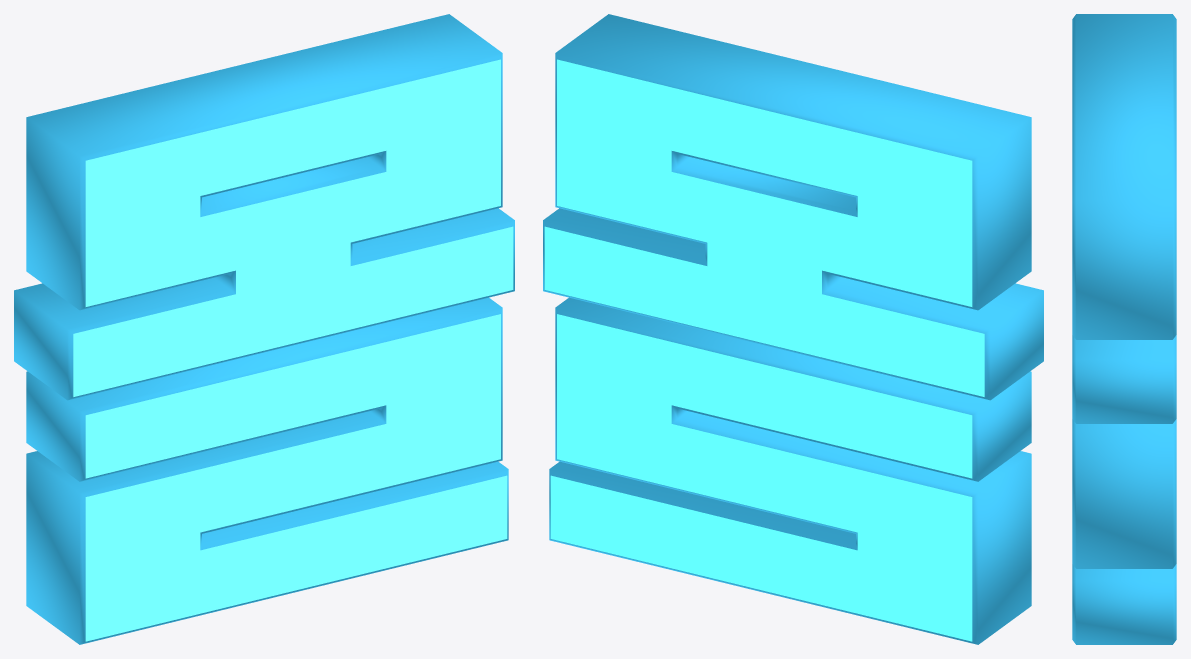
File: u_bab0_b.glb
3 renders of one model, left to right at view 1: azimuth 30°, elevation 25°; view 2: azimuth 150°, elevation 25°; view 3: azimuth 270°, elevation 25°, orthographic. The views are drawn at different scales.
Visible parts, largest first — view 1: glyph; view 2: glyph; view 3: glyph.
Part boxes in pixels (x1,y1,x2,y2): glyph: [14, 14, 514, 644]; glyph: [543, 14, 1043, 644]; glyph: [1072, 14, 1176, 644].
Bounding box in the file's own units: 0.0726 × 0.0758 × 0.0162.
